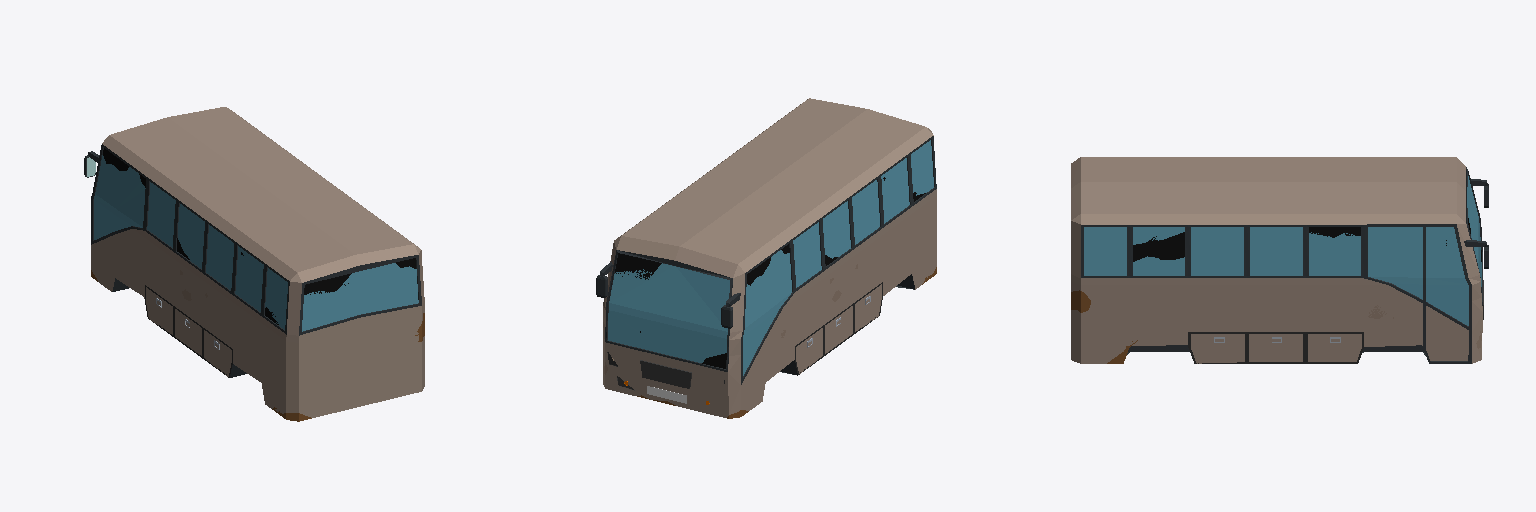
The picture shows the model from 3 angles: view 1: azimuth 30°, elevation 25°; view 2: azimuth 150°, elevation 25°; view 3: azimuth 270°, elevation 25°; orthographic projection.
Visible parts, largest first — view 1: Obstacle3; view 2: Obstacle3; view 3: Obstacle3.
Part boxes in pixels (x1,y1,x2,y2): Obstacle3: (84,107,424,421); Obstacle3: (596,98,936,418); Obstacle3: (1071,157,1488,363).
Bounding box in the file's own units: 2.36 × 2.39 × 6.11.
1 materials, 1 textured.